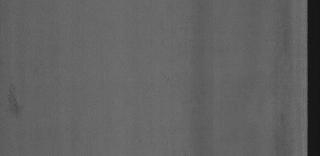water spot: (6, 83, 30, 125)
